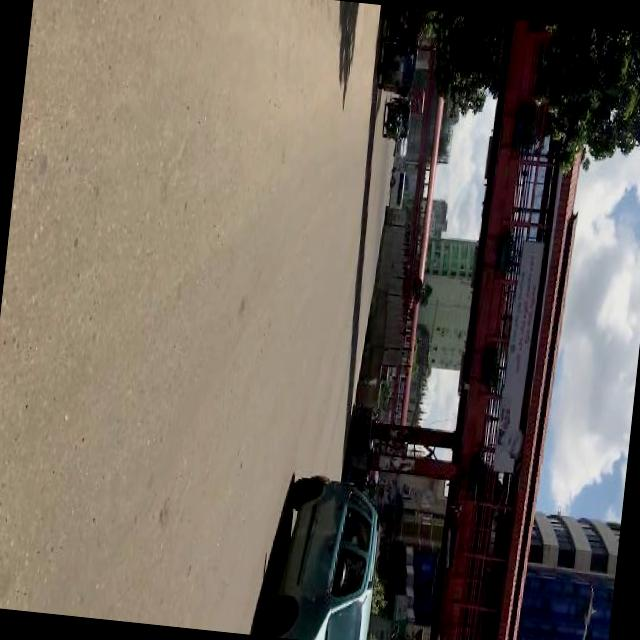car: (262, 472, 386, 640)
motorcycle: (374, 44, 419, 94), (379, 103, 413, 144)
truck: (387, 169, 406, 212)
